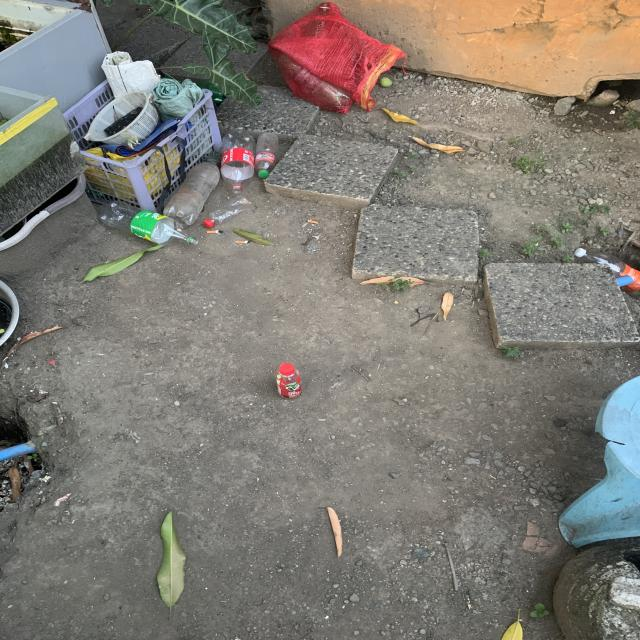Bottle: (276, 363, 302, 400)
